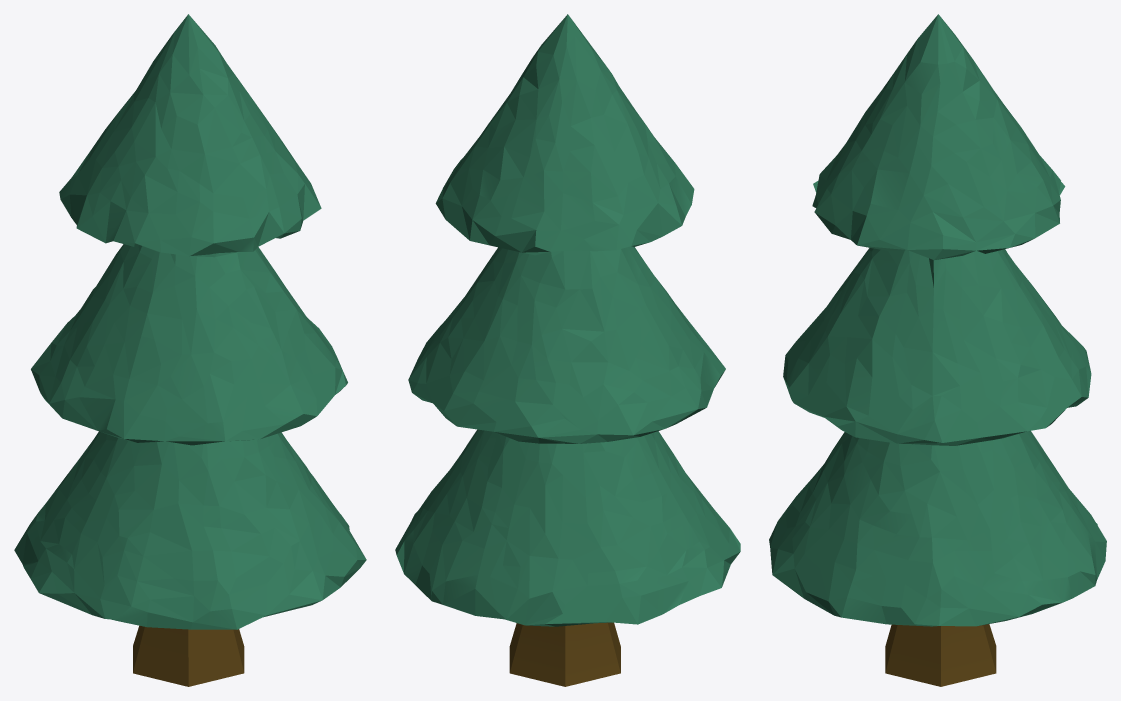
File: Snow_Tree.fbx
3 views of the same model, side by side, from view 1: azimuth 30°, elevation 25°; view 2: azimuth 150°, elevation 25°; view 3: azimuth 270°, elevation 25° (orthographic).
Visible parts, largest first — view 1: pCylinder3; view 2: pCylinder3; view 3: pCylinder3.
Part boxes in pixels (x1,y1,x2,y2): pCylinder3: [14, 14, 366, 686]; pCylinder3: [395, 14, 740, 686]; pCylinder3: [769, 14, 1106, 686].
Bounding box in the file's own units: 5.48 × 11.1 × 5.27.
